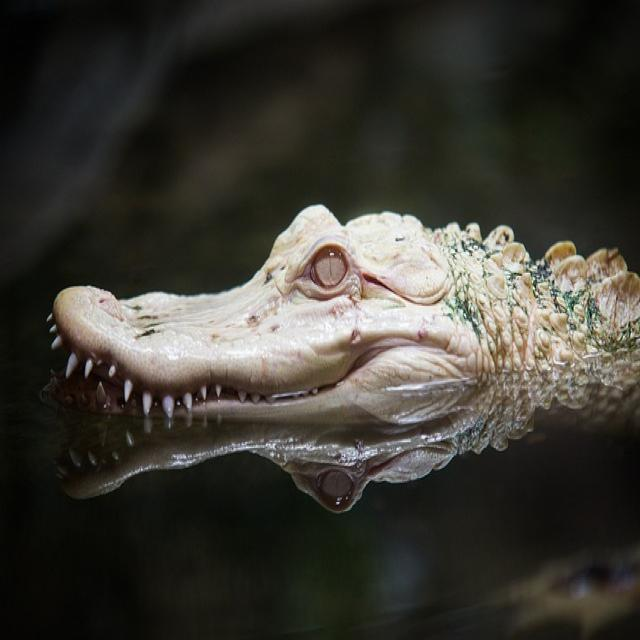Carnivorous: (44, 205, 640, 516)
